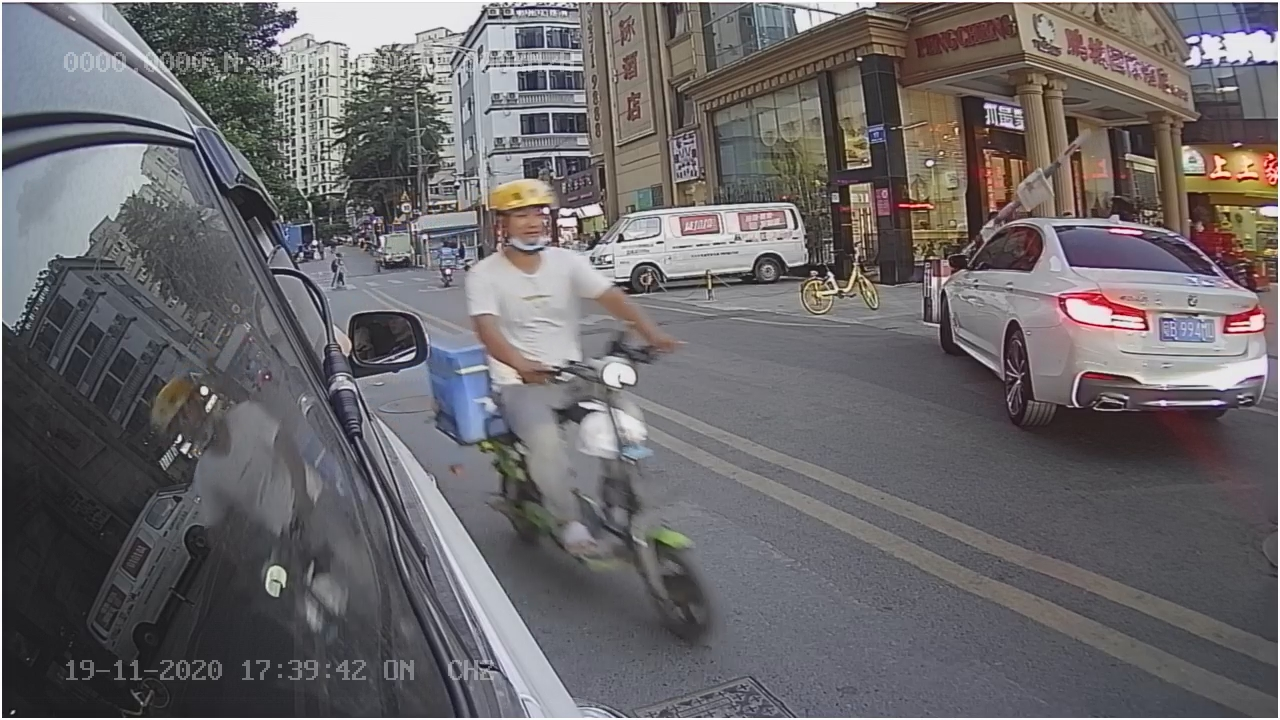person: (459, 185, 590, 363)
